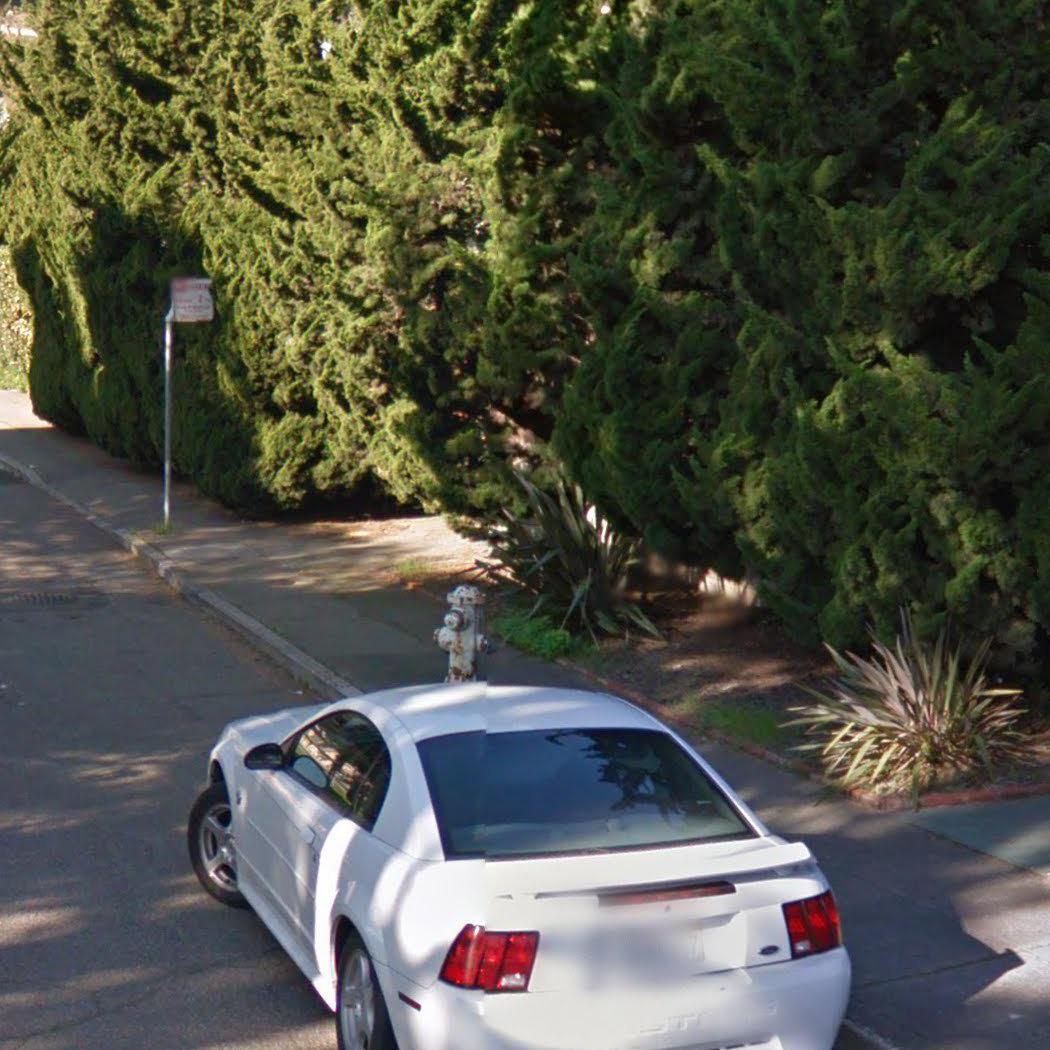No Parking: (169, 276, 215, 323)
